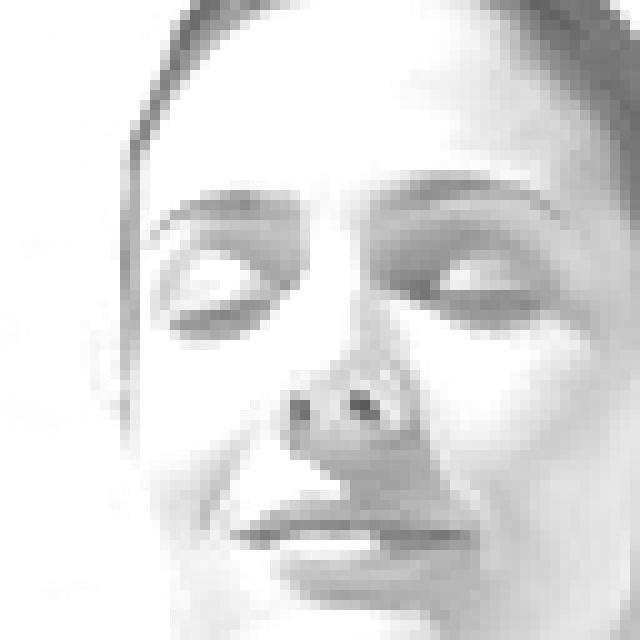real: (130, 30, 606, 618), (166, 222, 574, 358)
